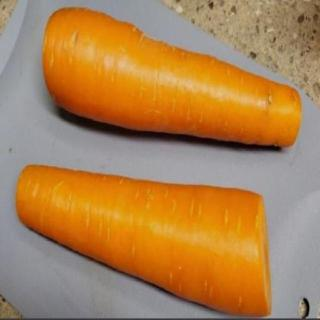carrot: (42, 5, 302, 156), (16, 164, 274, 316)
